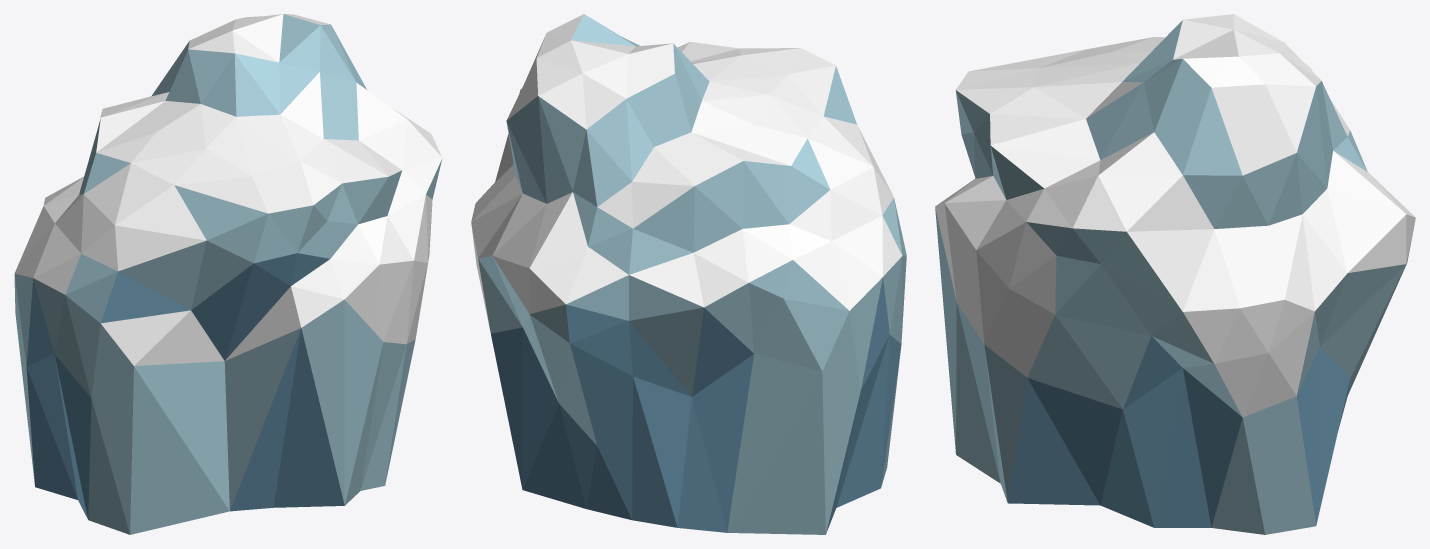
The model's file is terrainRockLarge1.fbx.
3 views of the same model, side by side, from view 1: azimuth 30°, elevation 25°; view 2: azimuth 150°, elevation 25°; view 3: azimuth 270°, elevation 25° (orthographic). The views are drawn at different scales.
Visible parts, largest first — view 1: rockLarge; view 2: rockLarge; view 3: rockLarge.
Part boxes in pixels (x1,y1,x2,y2): rockLarge: [14, 14, 442, 534]; rockLarge: [471, 14, 906, 534]; rockLarge: [935, 14, 1415, 534].
Bounding box in the file's own units: 1238 × 1326 × 1225.
1 material, 1 textured.
